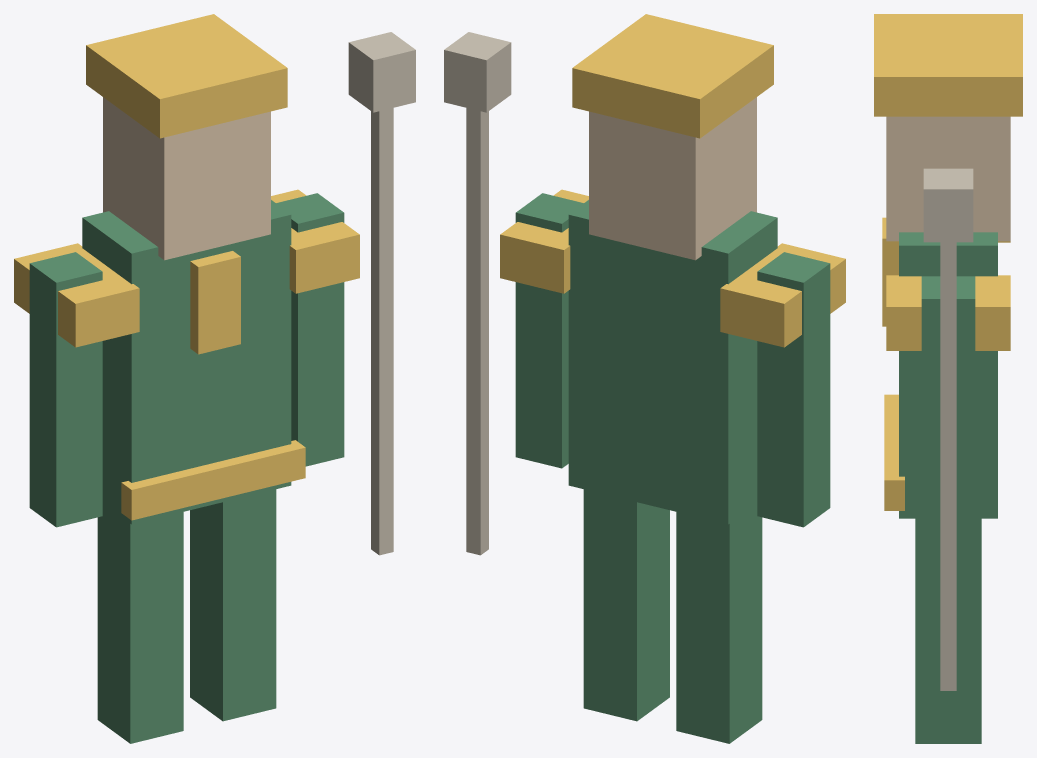
File: 09_vexa_starfall_responder_near_hall.glb
3 views of the same model, side by side, from view 1: azimuth 30°, elevation 25°; view 2: azimuth 150°, elevation 25°; view 3: azimuth 270°, elevation 25° (orthographic).
Visible parts, largest first — view 1: Vexa Starfall, Responder near Hall; view 2: Vexa Starfall, Responder near Hall; view 3: Vexa Starfall, Responder near Hall.
Part boxes in pixels (box(x1,y1,x2,y2)): Vexa Starfall, Responder near Hall: box(14, 14, 415, 743); Vexa Starfall, Responder near Hall: box(444, 14, 845, 743); Vexa Starfall, Responder near Hall: box(874, 14, 1022, 743).
Size of the model in its own units: 0.9836 by 1.71 by 0.3489.
